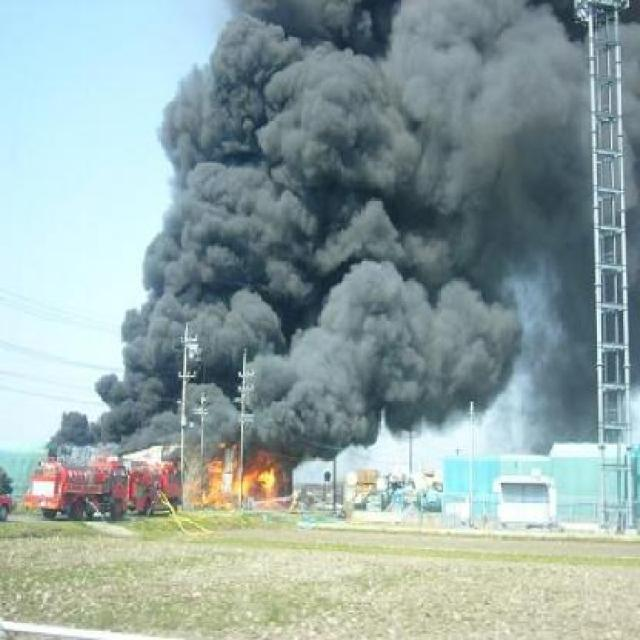Smoke: (49, 2, 584, 457)
